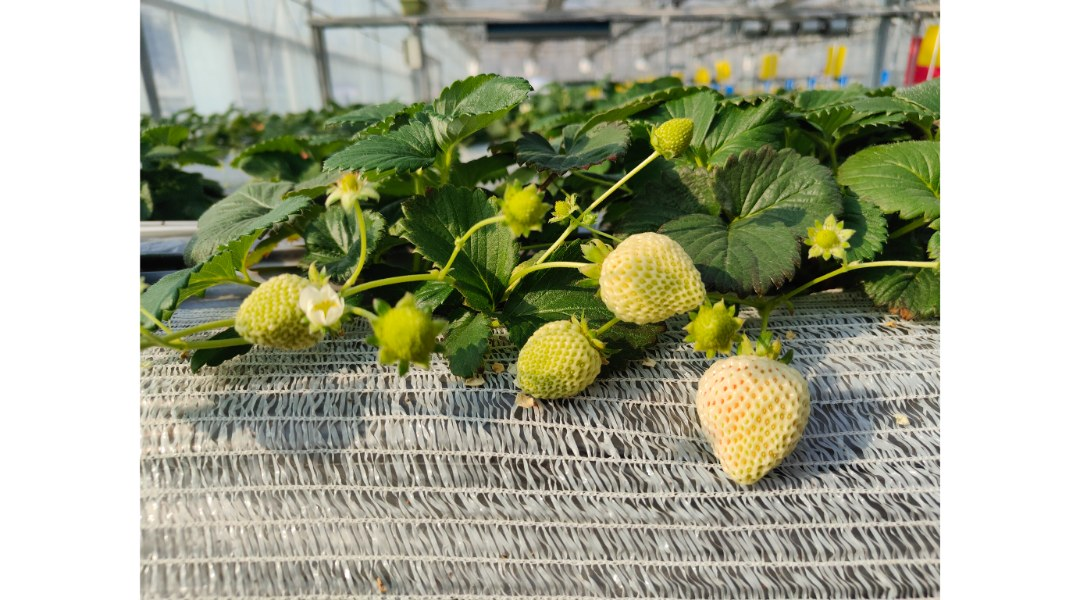berry: (694, 340, 815, 495), (585, 218, 726, 327), (231, 261, 331, 359), (508, 312, 606, 412), (359, 281, 441, 386), (494, 172, 568, 248), (800, 198, 860, 266), (683, 293, 753, 351), (650, 114, 696, 172)
flower: (320, 160, 389, 210), (294, 285, 354, 332)
strain: (583, 148, 664, 214), (850, 250, 944, 280), (447, 214, 500, 259)
